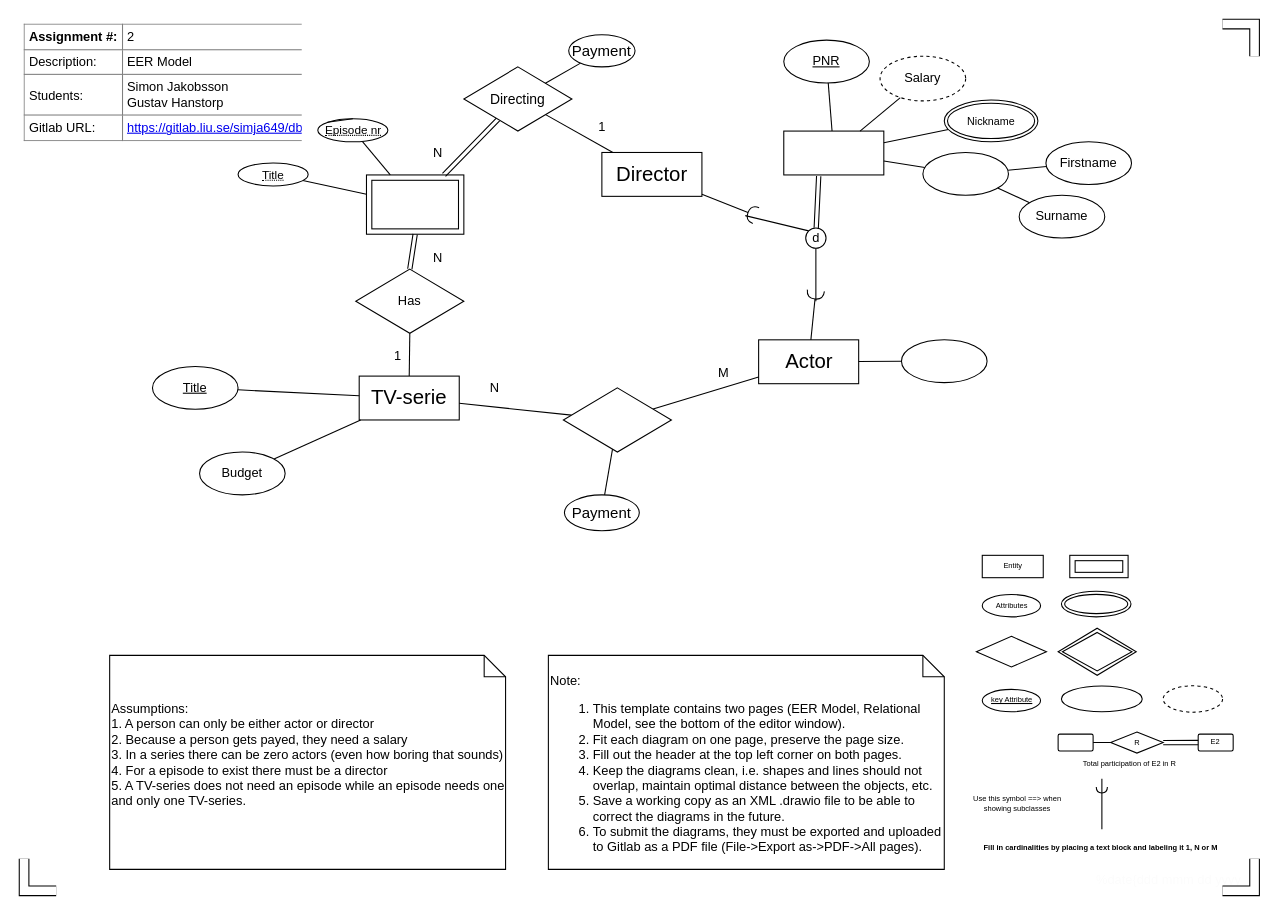
Some shapes in this 1279 by 919 pixel diagram are drawn without their labels. The shapes that lost their labels are listed below. From the top down, each one's centre as x and y in pixels, then its label:
At point 833,152: "Person".
At point 965,173: "Name".
At point 414,204: "Episode".
At point 943,361: "Rating".
At point 616,419: "Acting".
At point 1098,566: "weak entity".
At point 1095,603: "multivalued attribute".
At point 1010,651: "Relationship".
At point 1096,651: "identifying relationship".
At point 1101,698: "part of key attribute".
At point 1192,698: "derived attribute".
At point 1075,742: "E1".
